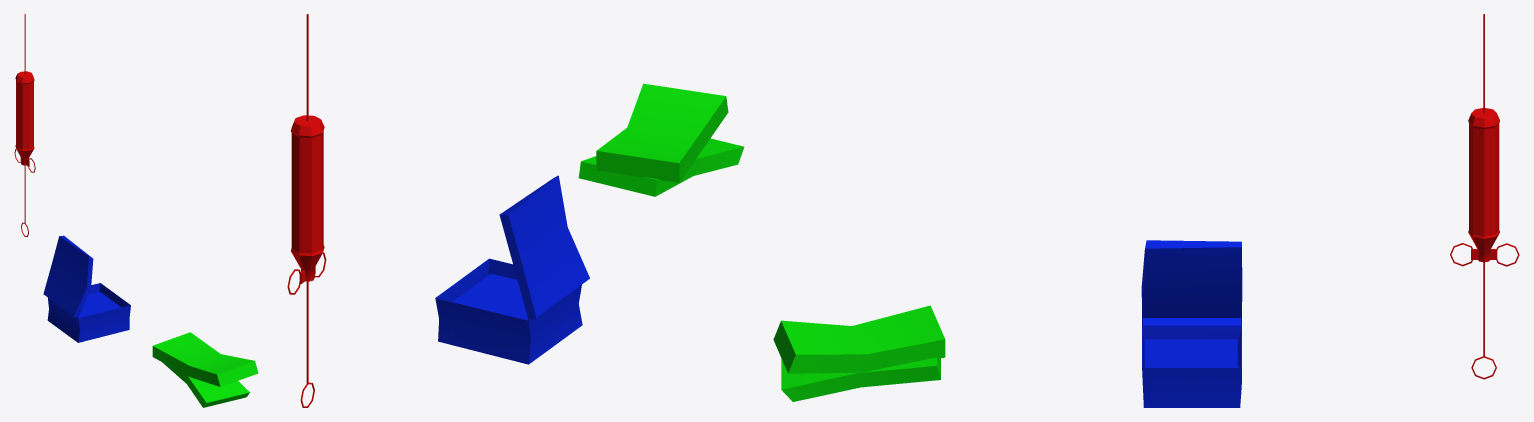
File: Loot.fbx
3 renders of one model, left to right at view 1: azimuth 30°, elevation 25°; view 2: azimuth 150°, elevation 25°; view 3: azimuth 270°, elevation 25°, orthographic. The views are drawn at different scales.
Parts seen in each view (by area): view 1: ammo, cash, syringe; view 2: ammo, cash, syringe; view 3: ammo, cash, syringe.
Part boxes in pixels (left/top/right/bottom): ammo: left=43, top=235, right=130, bottom=342; cash: left=152, top=332, right=258, bottom=407; syringe: left=14, top=14, right=35, bottom=236; ammo: left=435, top=175, right=589, bottom=364; cash: left=578, top=83, right=744, bottom=196; syringe: left=287, top=14, right=326, bottom=407; ammo: left=1141, top=240, right=1242, bottom=407; cash: left=773, top=305, right=945, bottom=401; syringe: left=1450, top=14, right=1519, bottom=379.
Bounding box in the file's own units: 0.3464 × 1.04 × 1.78.
